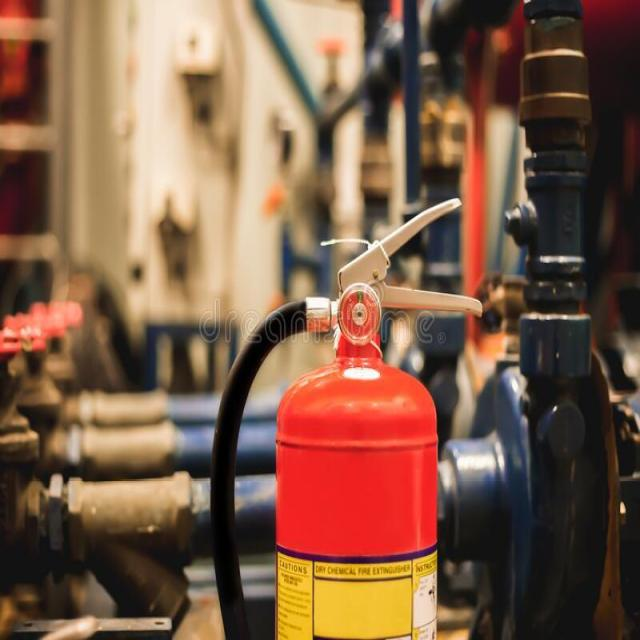fire_extinguisher: (205, 191, 490, 639)
